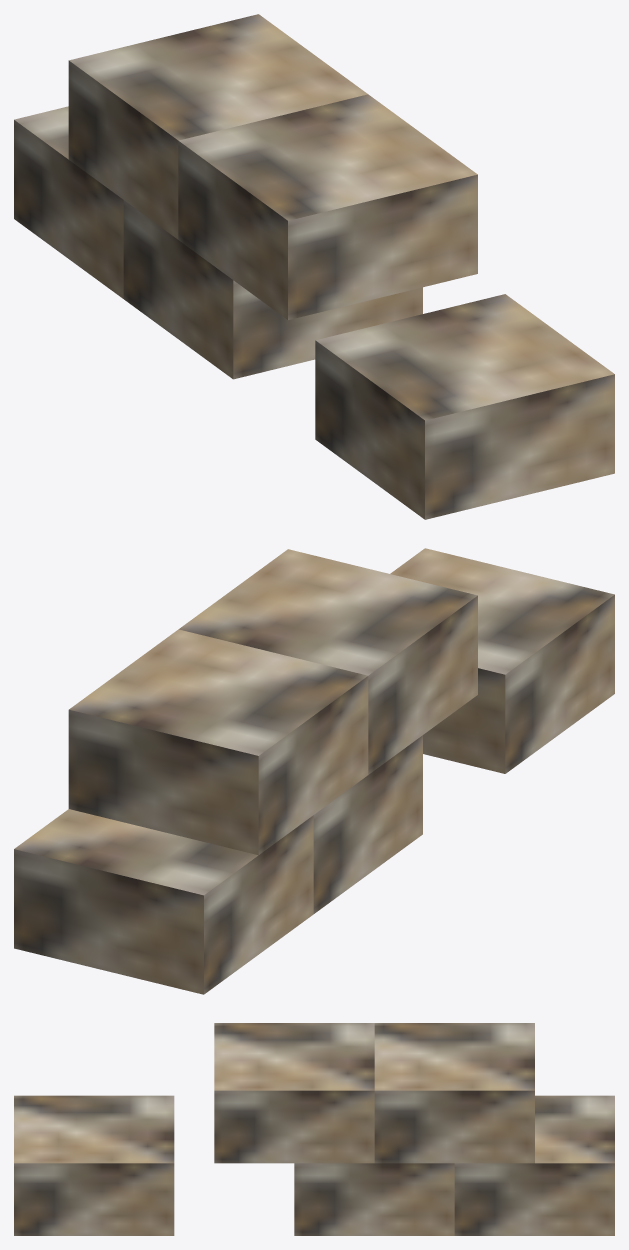
The model's file is bricks1.fbx.
3 views of the same model, one above another, from view 1: azimuth 30°, elevation 25°; view 2: azimuth 150°, elevation 25°; view 3: azimuth 270°, elevation 25° (orthographic). The views are drawn at different scales.
Parts seen in each view (by area): view 1: mesh_3, mesh_2, mesh_4, mesh_1, mesh; view 2: mesh_4, mesh, mesh_3, mesh_2, mesh_1; view 3: mesh_3, mesh_2, mesh_4, mesh, mesh_1.
Part boxes in pixels (left/top/right/bottom): mesh_3: left=178, top=94, right=477, bottom=319; mesh_2: left=315, top=294, right=614, bottom=519; mesh_4: left=68, top=14, right=367, bottom=239; mesh_1: left=123, top=200, right=422, bottom=379; mesh: left=14, top=106, right=123, bottom=298; mesh_4: left=68, top=629, right=368, bottom=855; mesh: left=14, top=809, right=313, bottom=994; mesh_3: left=179, top=549, right=477, bottom=774; mesh_2: left=390, top=548, right=614, bottom=773; mesh_1: left=313, top=735, right=422, bottom=913; mesh_3: left=214, top=1023, right=374, bottom=1163; mesh_2: left=14, top=1095, right=174, bottom=1235; mesh_4: left=374, top=1023, right=534, bottom=1163; mesh: left=454, top=1095, right=614, bottom=1235; mesh_1: left=294, top=1163, right=454, bottom=1235.
Bounding box in the file's own units: 25 × 25 × 93.75.
Materials: 1 (1 with a texture image).
